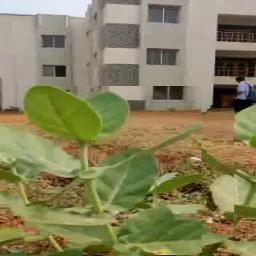Calotropis: (25, 86, 202, 256), (207, 106, 236, 236)
